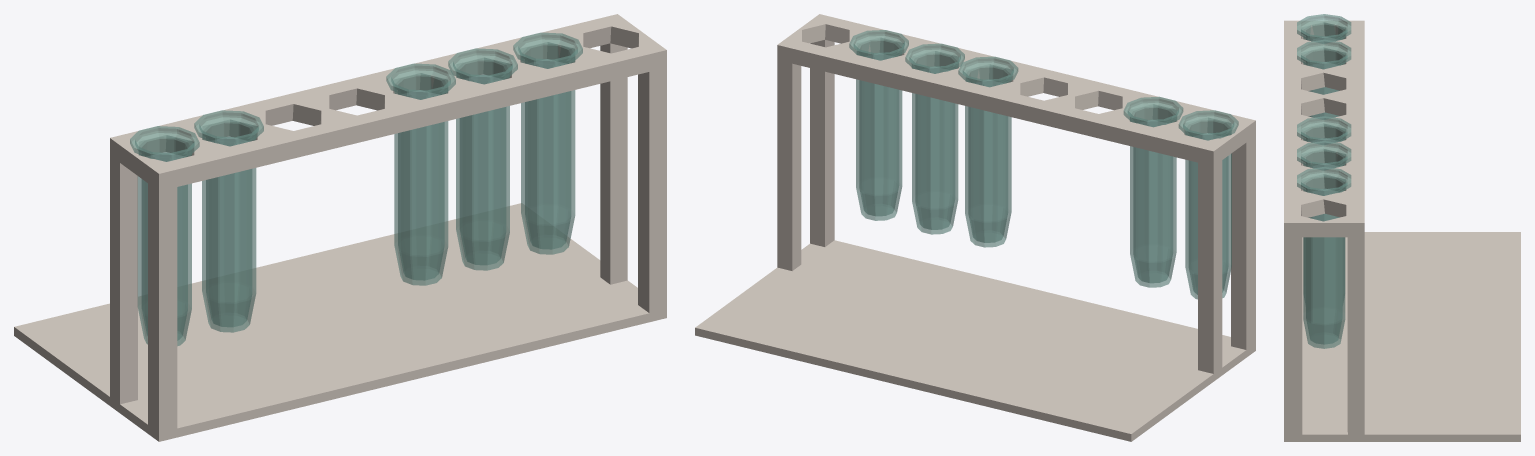
Rendered from fluidstand.fbx.
3 views of the same model, side by side, from view 1: azimuth 30°, elevation 25°; view 2: azimuth 150°, elevation 25°; view 3: azimuth 270°, elevation 25° (orthographic). The views are drawn at different scales.
Visible parts, largest first — view 1: base, cyl3, cyl5, cyl2, cyl4, cyl1; view 2: base, cyl3, cyl5, cyl2, cyl4, cyl1; view 3: base, cyl5, cyl4, cyl2, cyl1, cyl3.
Boxes of the visible parts, left/top/right/bottom form: base: left=14, top=14, right=666, bottom=441; cyl3: left=386, top=63, right=455, bottom=285; cyl5: left=513, top=32, right=582, bottom=254; cyl2: left=194, top=110, right=263, bottom=332; cyl4: left=448, top=48, right=517, bottom=270; cyl1: left=130, top=126, right=199, bottom=345; base: left=695, top=14, right=1255, bottom=441; cyl3: left=958, top=56, right=1018, bottom=247; cyl5: left=849, top=30, right=908, bottom=220; cyl2: left=1123, top=96, right=1183, bottom=287; cyl4: left=905, top=43, right=964, bottom=234; cyl1: left=1178, top=110, right=1238, bottom=299; base: left=1284, top=20, right=1520, bottom=441; cyl5: left=1297, top=167, right=1351, bottom=348; cyl4: left=1297, top=141, right=1351, bottom=303; cyl2: left=1297, top=39, right=1351, bottom=138; cyl1: left=1297, top=14, right=1351, bottom=43; cyl3: left=1297, top=116, right=1351, bottom=144.
Size of the model in its own units: 1.73 by 0.8982 by 0.8546.
